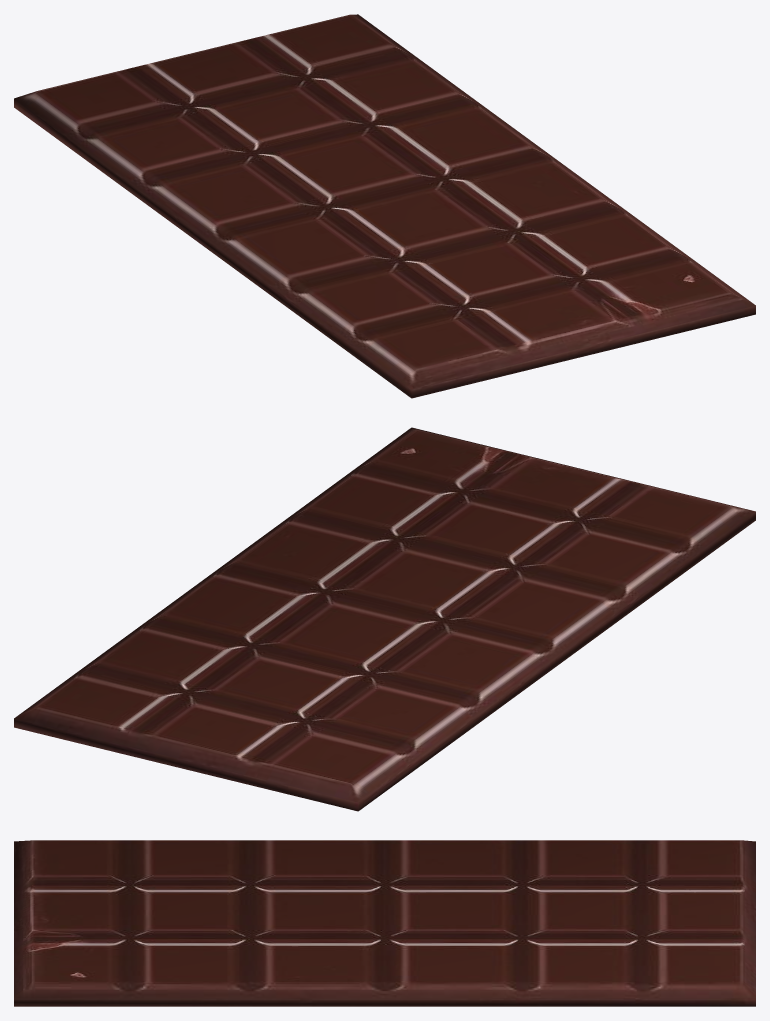
3 renders of one model, top to bottom at view 1: azimuth 30°, elevation 25°; view 2: azimuth 150°, elevation 25°; view 3: azimuth 270°, elevation 25°, orthographic. The views are drawn at different scales.
Size of the model in its own units: 1 by 0.05 by 2.
Materials: 1 (1 with a texture image).
